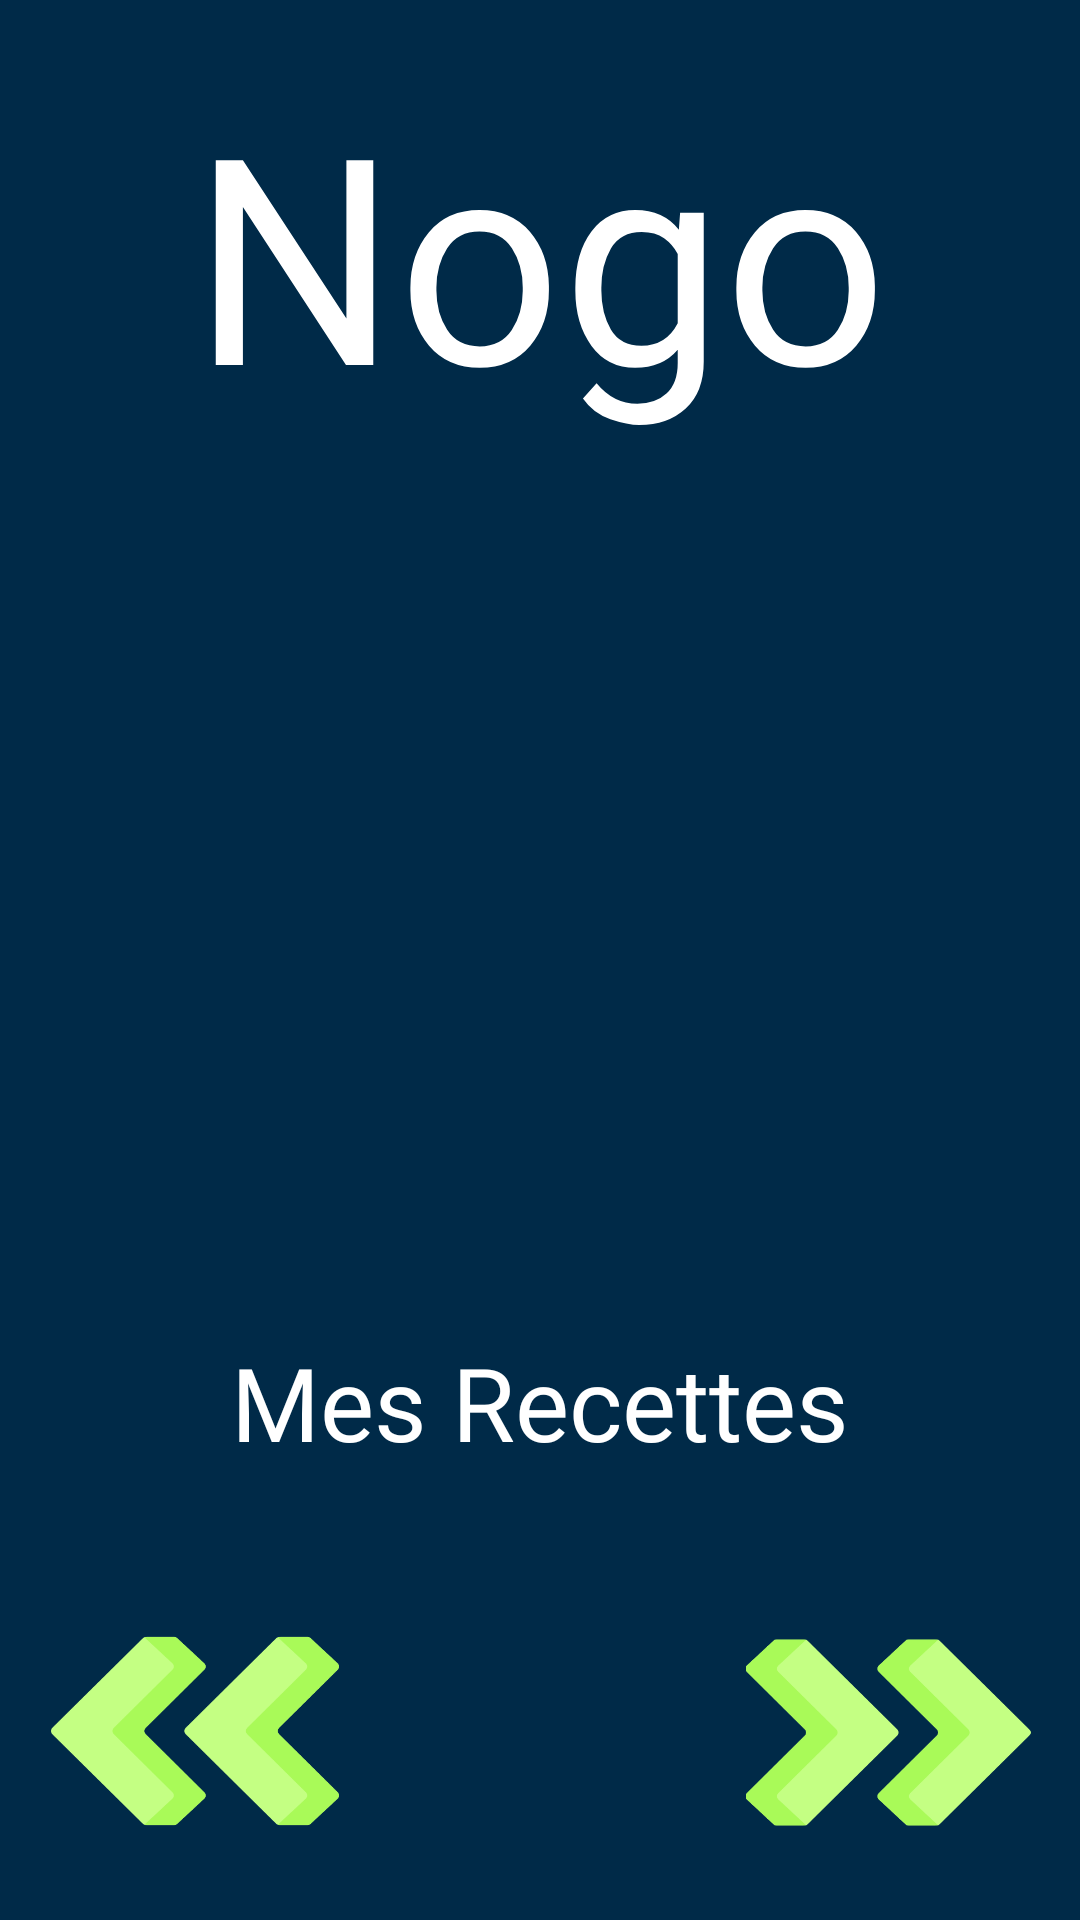

Locate icon controls on the screen. Image size 1080*1920, boxes as bbox=[x1, y1, x2, y2].
fleche droite: bbox=[746, 1639, 1031, 1826]
fleche gauche: bbox=[51, 1636, 339, 1826]
